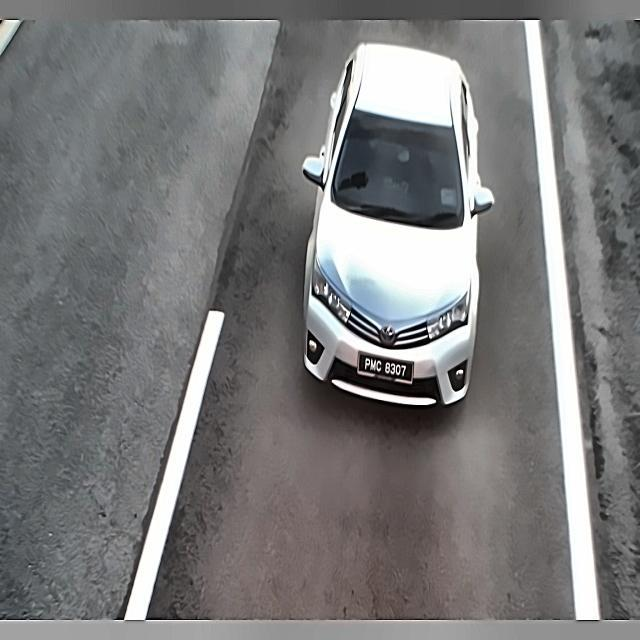car: (359, 343, 415, 388)
